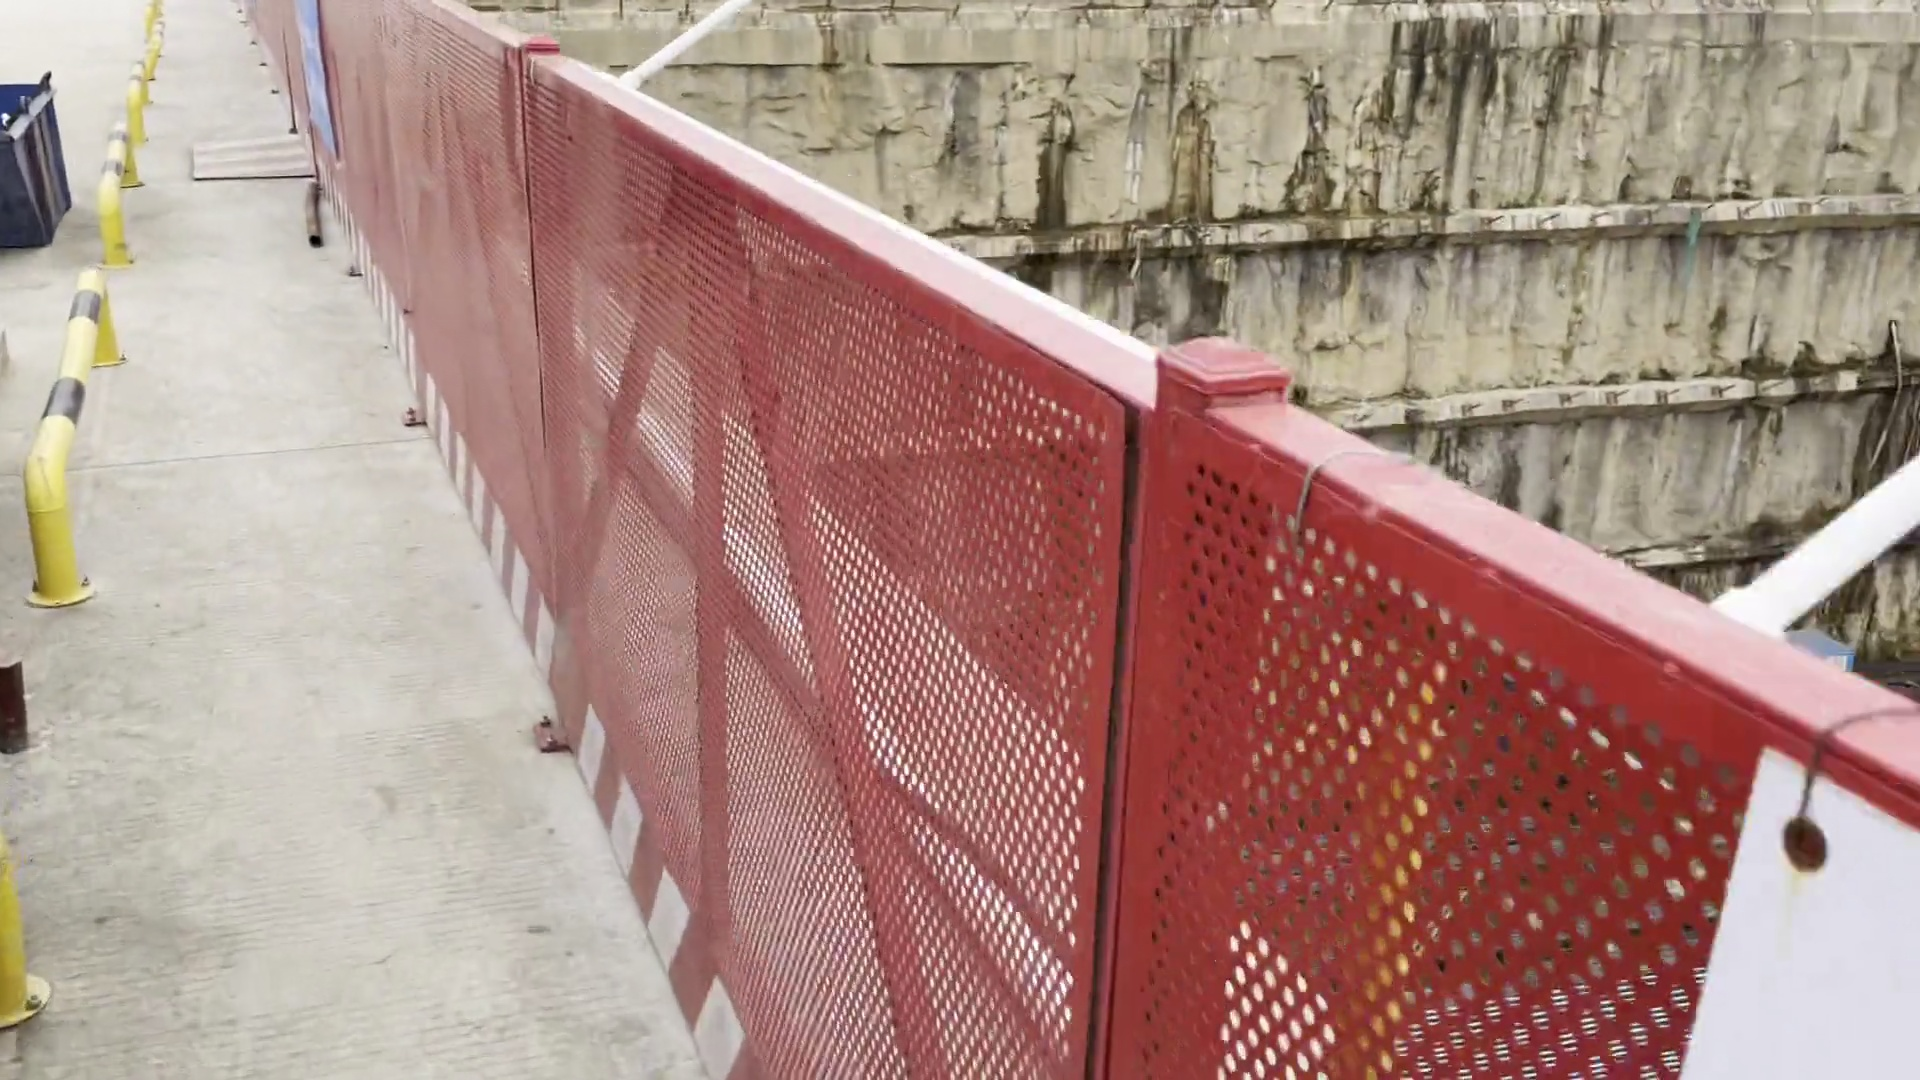fence: (891, 199, 1920, 1080), (240, 1, 899, 1080)
hopper: (3, 66, 80, 265)
slogan: (1679, 711, 1920, 1073), (272, 1, 375, 173)
